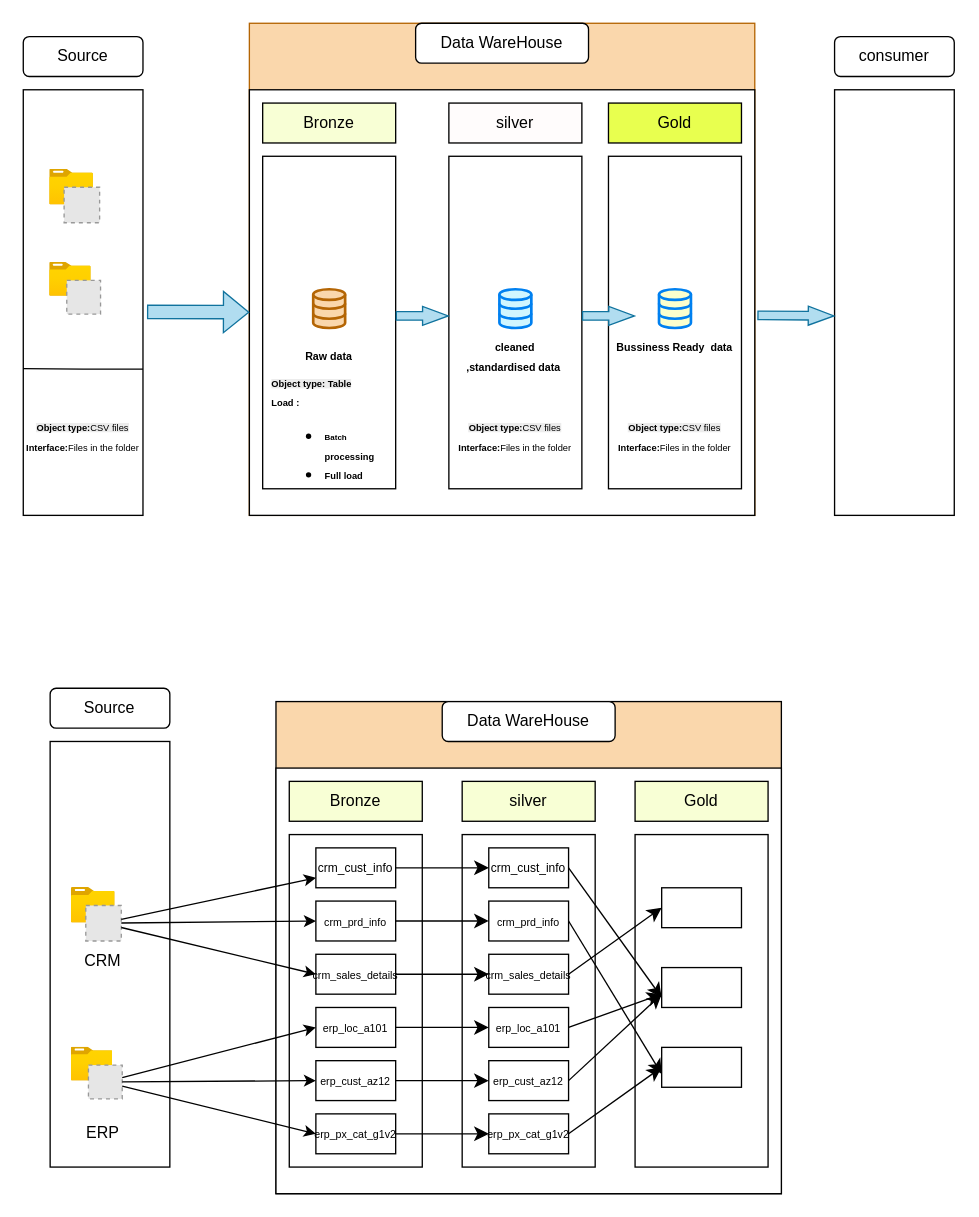
This 979x1217 diagram has some shape labels left out. Grey dashed boxes stand in for pictures. Here are the shapes that lost their labels. From the top down, the centre of each, then its label:
At (700,907): "fact_sales".
At (700,986): "dim_customers".
At (700,1066): "dim_products".
